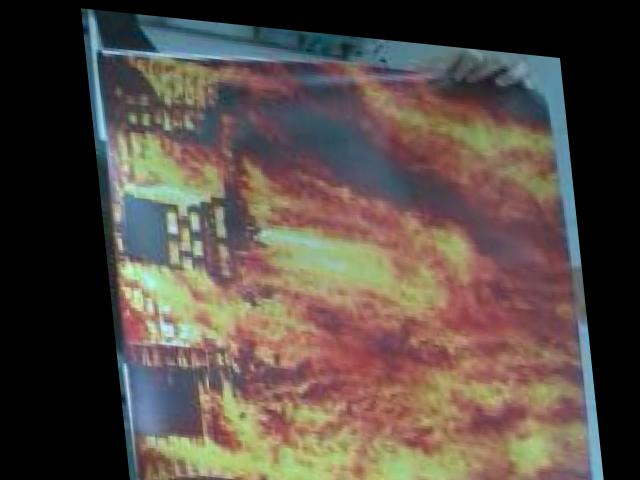fire-poster: (83, 15, 591, 480)
